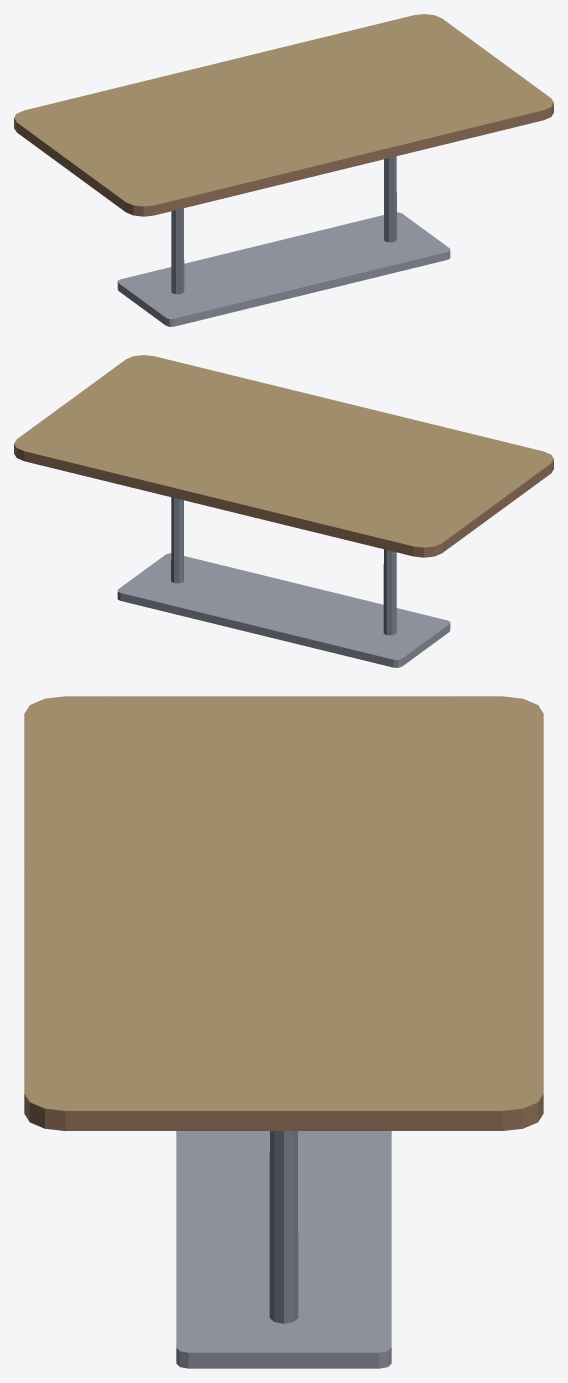
File: MejaBesar.fbx
3 views of the same model, one above another, from view 1: azimuth 30°, elevation 25°; view 2: azimuth 150°, elevation 25°; view 3: azimuth 270°, elevation 25° (orthographic). The views are drawn at different scales.
Visible parts, largest first — view 1: 4 Meja besar; view 2: 4 Meja besar; view 3: 4 Meja besar.
Boxes of the visible parts, x1,y1,x2,y2 form: 4 Meja besar: (14, 14, 553, 326); 4 Meja besar: (14, 355, 553, 667); 4 Meja besar: (24, 696, 543, 1368).
Size of the model in its own units: 418 by 153 by 221.
